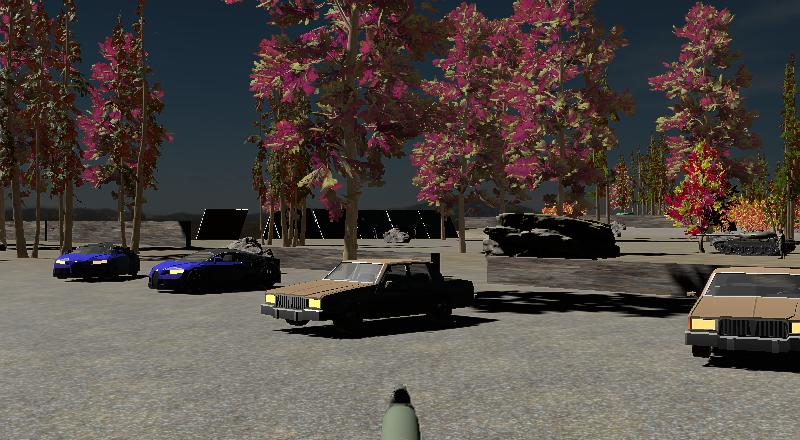Tank: (687, 228, 796, 257)
car: (260, 256, 476, 333), (683, 268, 800, 363), (145, 246, 284, 295), (50, 240, 141, 283)
